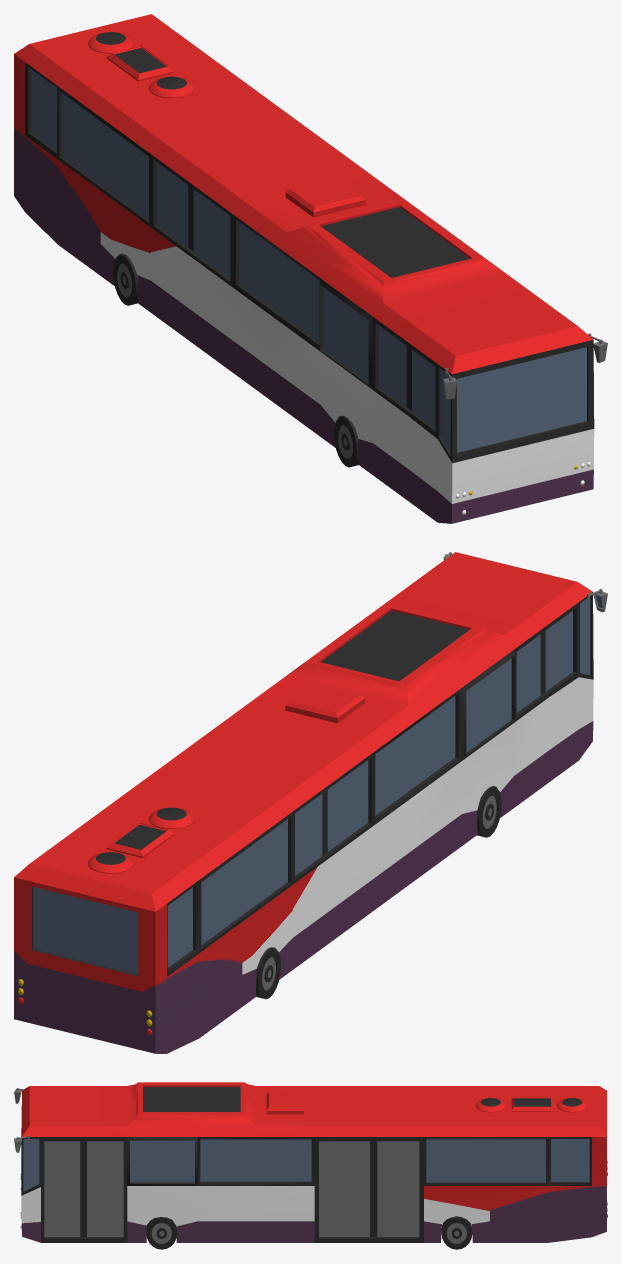
Rendered from SBS.fbx.
3 renders of one model, top to bottom at view 1: azimuth 30°, elevation 25°; view 2: azimuth 150°, elevation 25°; view 3: azimuth 270°, elevation 25°, orthographic. The views are drawn at different scales.
Visible parts, largest first — view 1: SBS; view 2: SBS; view 3: SBS.
Boxes of the visible parts, left/top/right/bottom form: SBS: left=14, top=14, right=607, bottom=523; SBS: left=14, top=552, right=607, bottom=1053; SBS: left=14, top=1082, right=607, bottom=1249.
Bounding box in the file's own units: 2.66 × 2.98 × 12.6.
